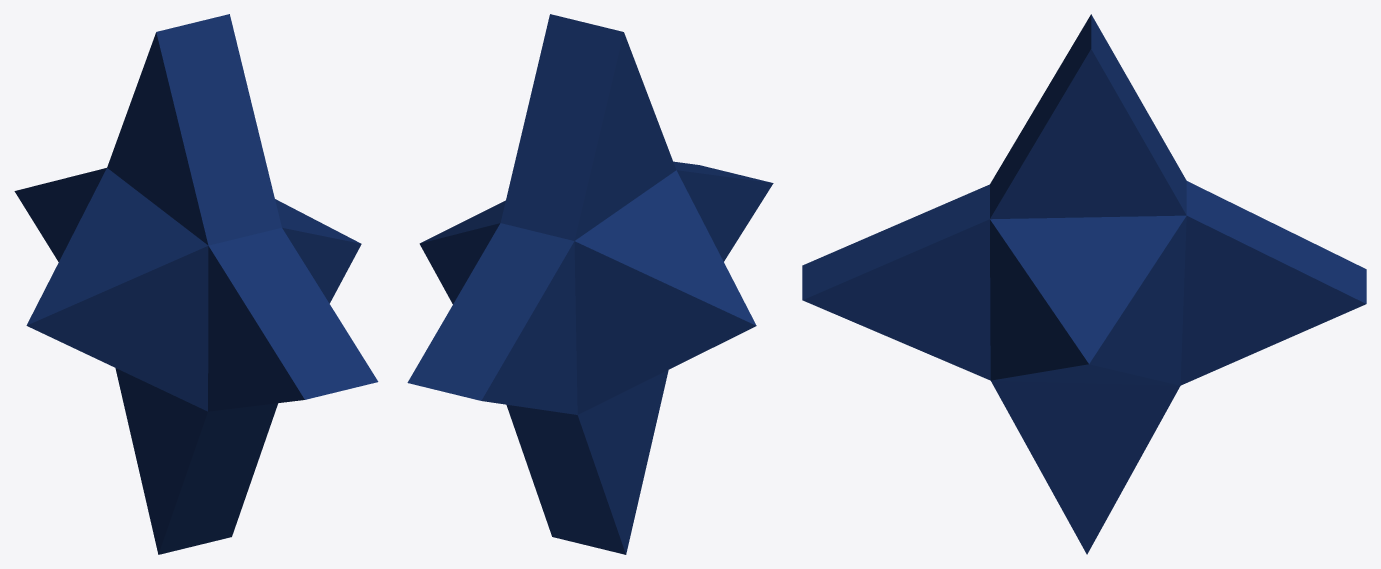
The model's file is CrystalMesh.fbx.
3 views of the same model, side by side, from view 1: azimuth 30°, elevation 25°; view 2: azimuth 150°, elevation 25°; view 3: azimuth 270°, elevation 25° (orthographic). The views are drawn at different scales.
Visible parts, largest first — view 1: Cube; view 2: Cube; view 3: Cube.
Part boxes in pixels (x1,y1,x2,y2): Cube: (14, 14, 378, 554); Cube: (407, 14, 773, 554); Cube: (802, 14, 1366, 554).
Size of the model in its own units: 215 by 319 by 322.
